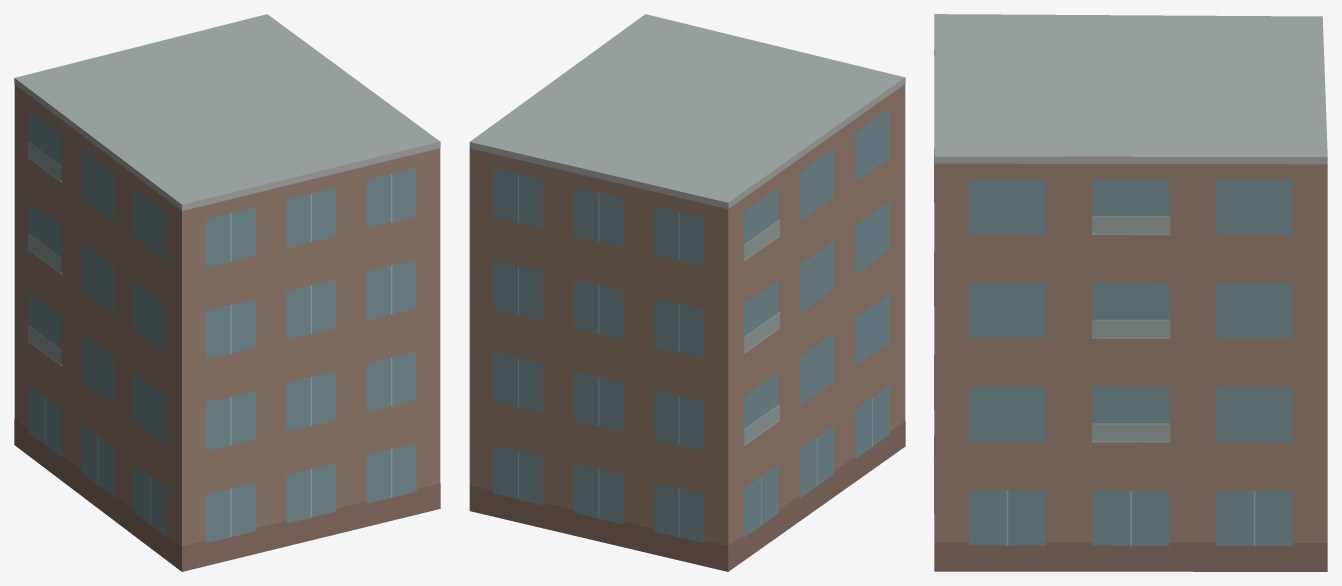
Rendered from survey-upis-32494957.glb.
3 renders of one model, left to right at view 1: azimuth 30°, elevation 25°; view 2: azimuth 150°, elevation 25°; view 3: azimuth 270°, elevation 25°, orthographic. The views are drawn at different scales.
Visible parts, largest first — view 1: survey-upis-32494957.tmp; view 2: survey-upis-32494957.tmp; view 3: survey-upis-32494957.tmp.
Part boxes in pixels (x1=…): survey-upis-32494957.tmp: x1=14, y1=14, x2=440, y2=571; survey-upis-32494957.tmp: x1=469, y1=14, x2=905, y2=571; survey-upis-32494957.tmp: x1=934, y1=14, x2=1327, y2=571.
Bounding box in the file's own units: 10.45 × 14.1 × 12.14.
